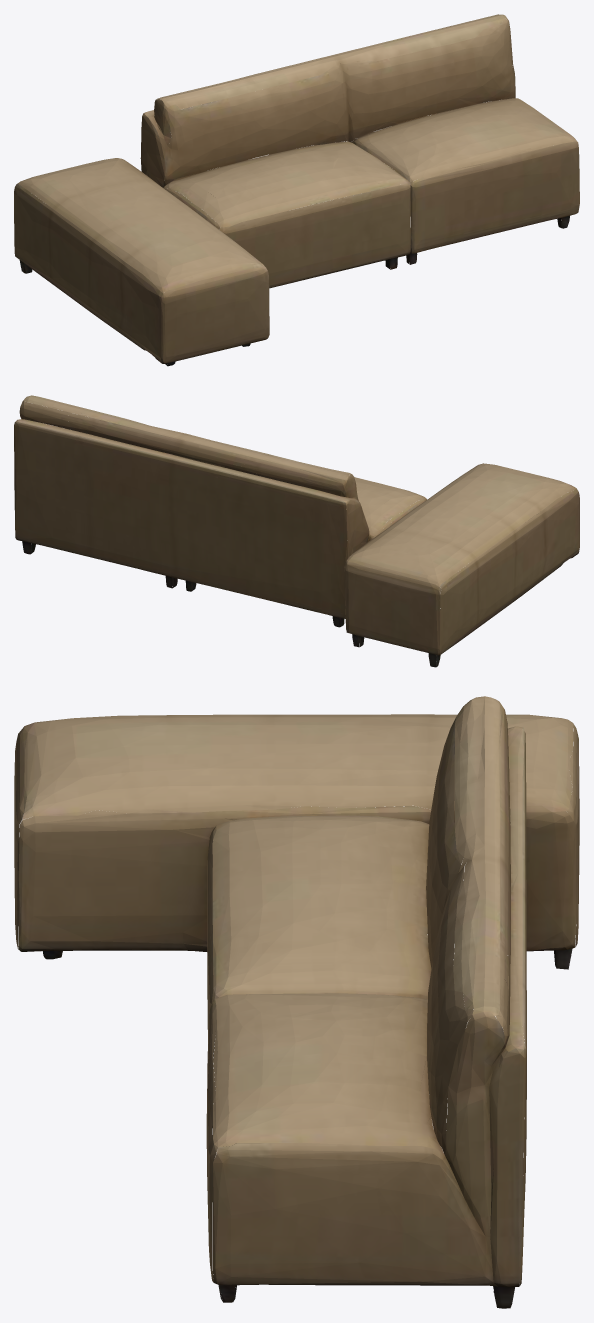
Rendered from m-canape-creme.glb.
3 renders of one model, top to bottom at view 1: azimuth 30°, elevation 25°; view 2: azimuth 150°, elevation 25°; view 3: azimuth 270°, elevation 25°, orthographic. The views are drawn at different scales.
Visible parts, largest first — view 1: geometry_0; view 2: geometry_0; view 3: geometry_0.
Part boxes in pixels (left/top/right/bottom): geometry_0: left=14, top=14, right=579, bottom=366; geometry_0: left=14, top=395, right=579, bottom=667; geometry_0: left=14, top=696, right=579, bottom=1308.
Bounding box in the file's own units: 0.9936 × 0.3247 × 0.5488.
1 material, 1 textured.
